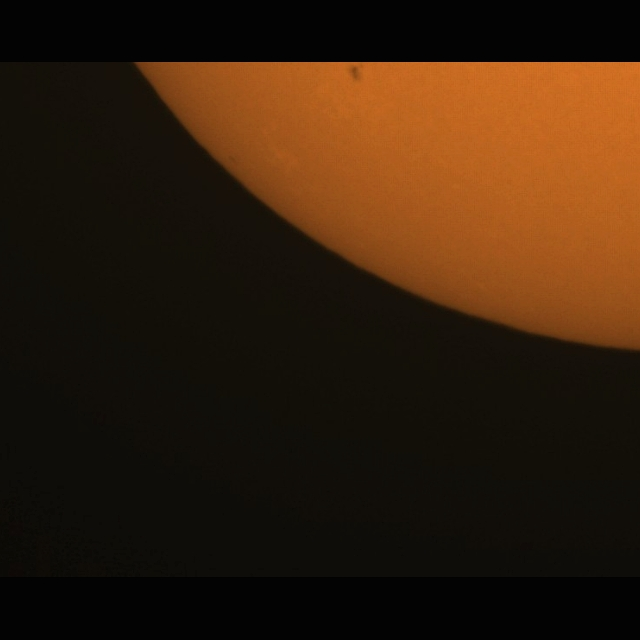sunspot: (347, 63, 365, 84)
